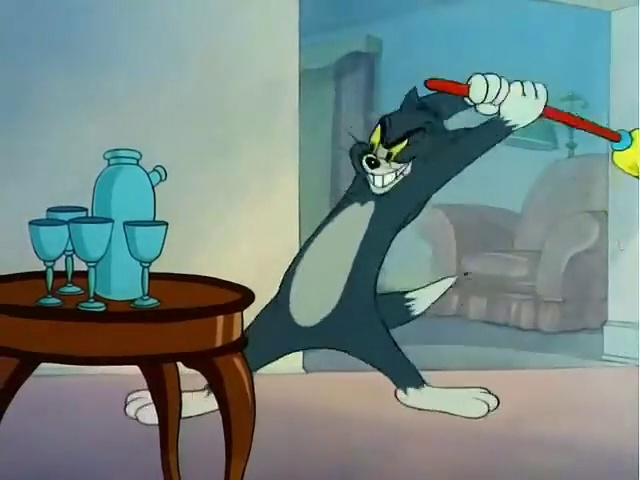tom: (193, 69, 623, 417)
